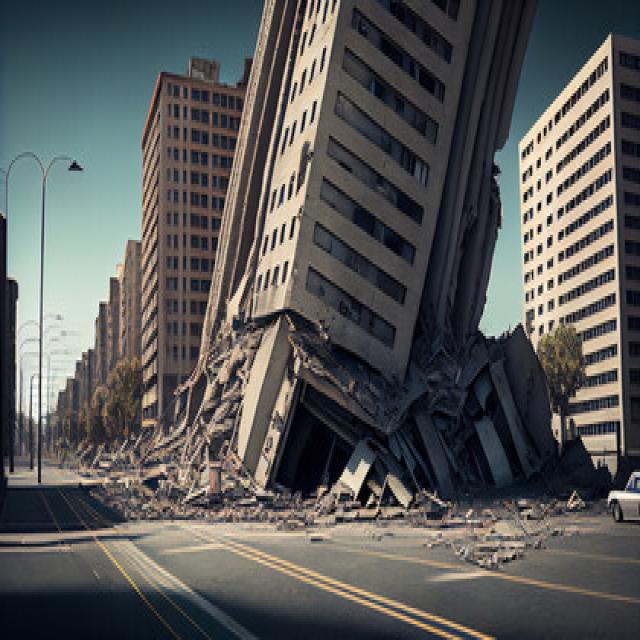Destroyed_building: (179, 2, 633, 640)
